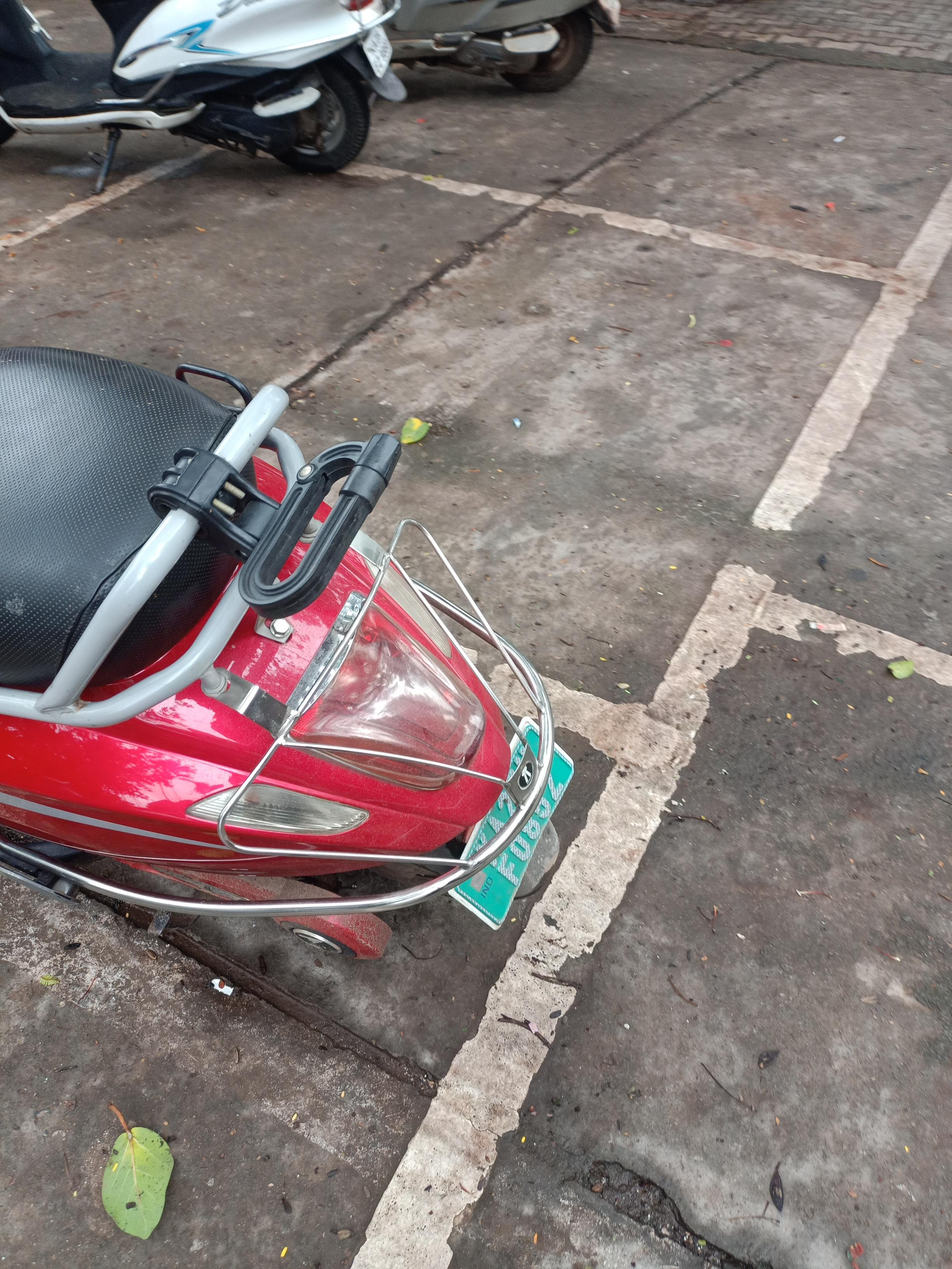green license plate: (444, 713, 572, 940)
